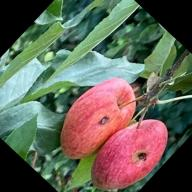Apples: (43, 66, 148, 172), (79, 104, 180, 192)
